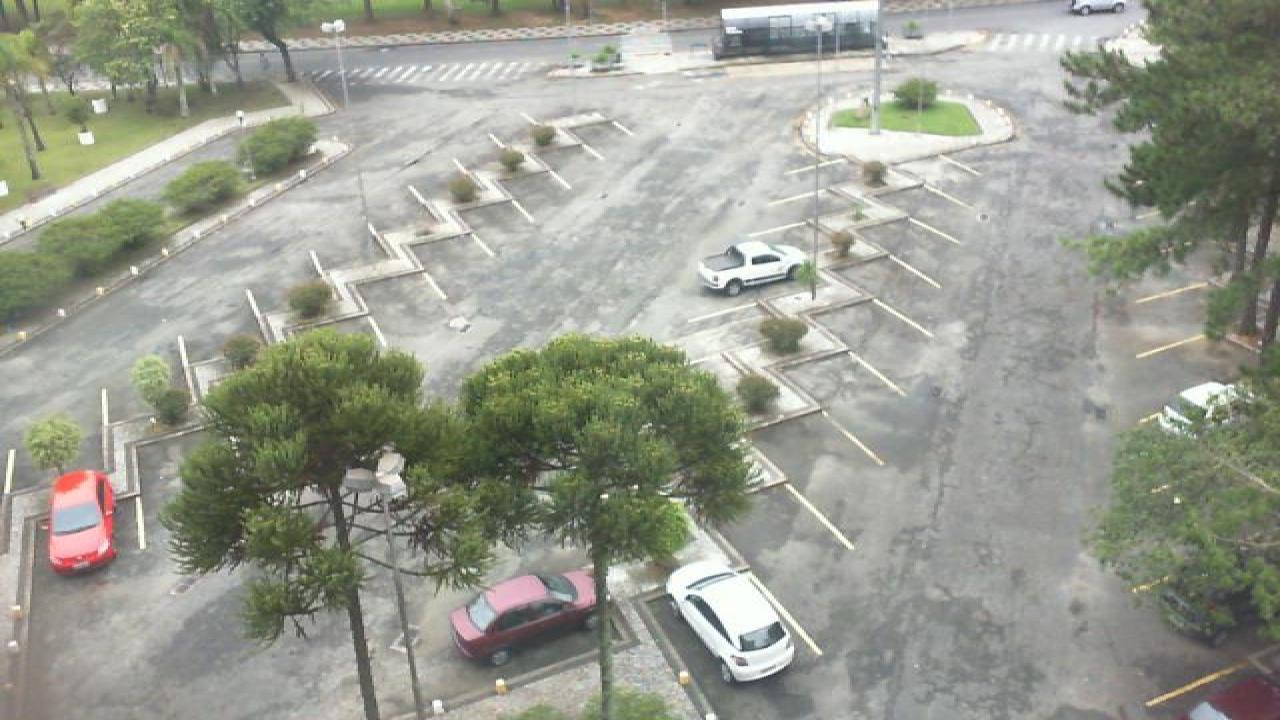Car: (662, 557, 798, 684), (448, 566, 606, 668), (46, 470, 118, 574), (694, 239, 812, 297), (1160, 380, 1250, 436)
